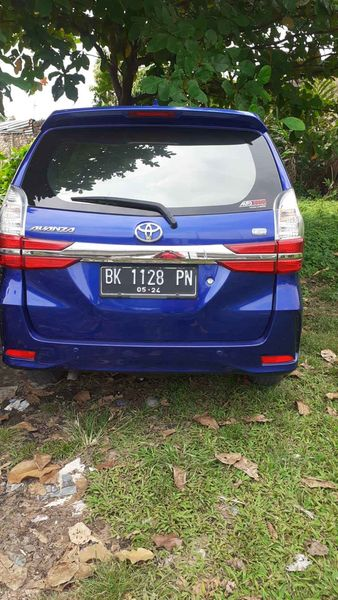plate: (98, 261, 202, 305)
